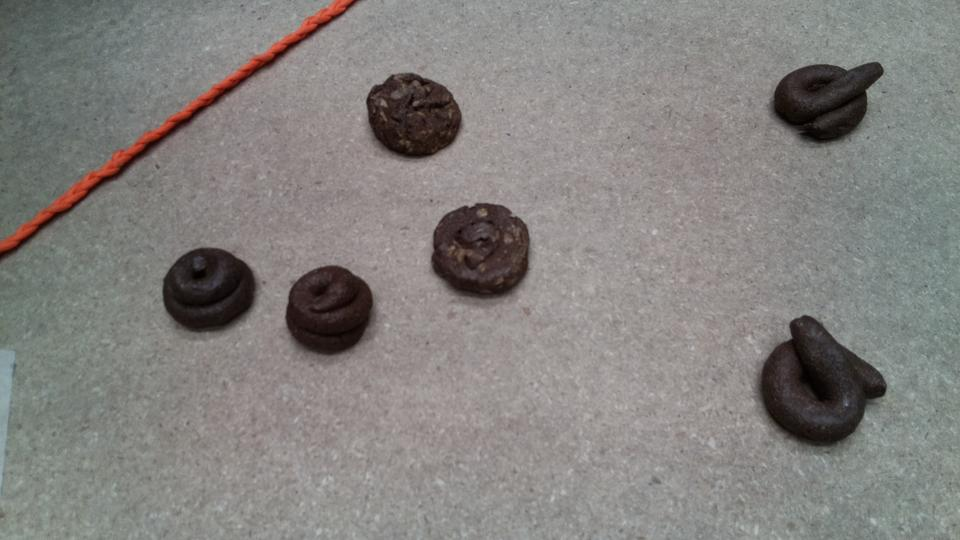poop: (752, 315, 902, 449), (429, 200, 536, 300), (768, 60, 891, 142), (162, 246, 260, 339), (365, 71, 468, 159), (286, 272, 385, 352)
rope: (218, 3, 361, 90), (1, 179, 100, 269), (149, 79, 260, 152), (67, 131, 174, 199)
